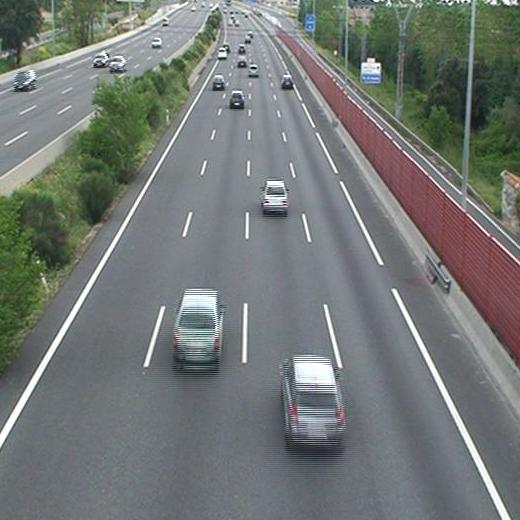car: (282, 358, 345, 445), (174, 292, 221, 367), (263, 182, 288, 211), (229, 91, 245, 107), (212, 75, 224, 89), (281, 76, 292, 88), (248, 65, 259, 75), (217, 48, 226, 58), (237, 57, 246, 66), (237, 45, 245, 51)
